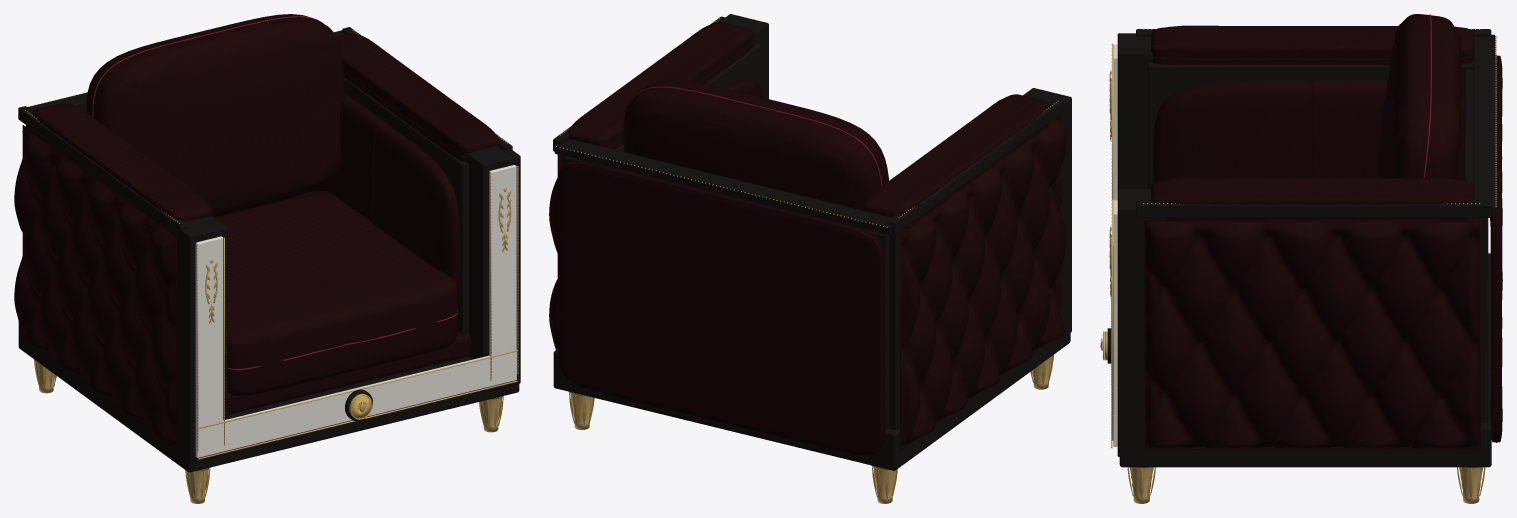
3 views of the same model, side by side, from view 1: azimuth 30°, elevation 25°; view 2: azimuth 150°, elevation 25°; view 3: azimuth 270°, elevation 25° (orthographic). The views are drawn at different scales.
Parts seen in each view (by area): view 1: Wellington burgundy armchair | 50492.0 | burgundy-8 web batc; view 2: Wellington burgundy armchair | 50492.0 | burgundy-8 web batc; view 3: Wellington burgundy armchair | 50492.0 | burgundy-8 web batc.
Part boxes in pixels (x1=…): Wellington burgundy armchair | 50492.0 | burgundy-8 web batc: x1=14, y1=14, x2=520, y2=503; Wellington burgundy armchair | 50492.0 | burgundy-8 web batc: x1=549, y1=14, x2=1071, y2=503; Wellington burgundy armchair | 50492.0 | burgundy-8 web batc: x1=1100, y1=14, x2=1502, y2=503.
Bounding box in the file's own units: 1.06 × 0.95 × 0.95.
Materials: 6 (1 with a texture image).
